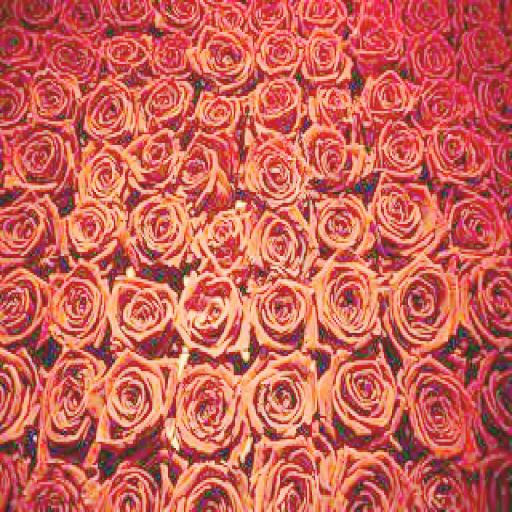rose: (398, 350, 477, 461), (318, 350, 404, 448), (166, 365, 248, 456), (101, 350, 176, 448), (381, 258, 461, 344), (320, 443, 417, 512), (246, 426, 323, 512), (243, 264, 320, 346), (243, 354, 320, 435), (368, 181, 451, 256), (43, 344, 104, 442), (178, 271, 251, 352), (51, 258, 114, 346), (116, 194, 190, 265), (107, 271, 176, 346), (318, 254, 380, 337), (118, 126, 188, 198), (302, 124, 374, 192), (186, 202, 259, 268), (242, 134, 310, 203), (419, 122, 491, 186), (461, 262, 512, 352), (168, 458, 251, 512), (445, 192, 512, 258), (308, 192, 374, 258), (403, 452, 474, 512), (250, 207, 318, 269), (72, 130, 131, 201), (194, 24, 258, 88), (10, 126, 76, 188), (182, 130, 240, 199), (19, 456, 89, 512), (85, 463, 163, 512), (475, 341, 512, 444), (59, 196, 117, 260), (246, 74, 302, 136), (368, 117, 427, 175), (402, 26, 464, 81), (83, 72, 136, 136), (133, 70, 192, 126), (251, 23, 309, 79), (30, 64, 82, 126), (414, 70, 474, 122), (298, 19, 348, 81), (45, 30, 101, 83), (362, 68, 416, 122), (189, 81, 245, 130), (352, 20, 403, 70), (462, 26, 512, 74), (308, 81, 358, 126), (147, 30, 194, 75), (102, 28, 149, 72), (473, 70, 512, 123)
